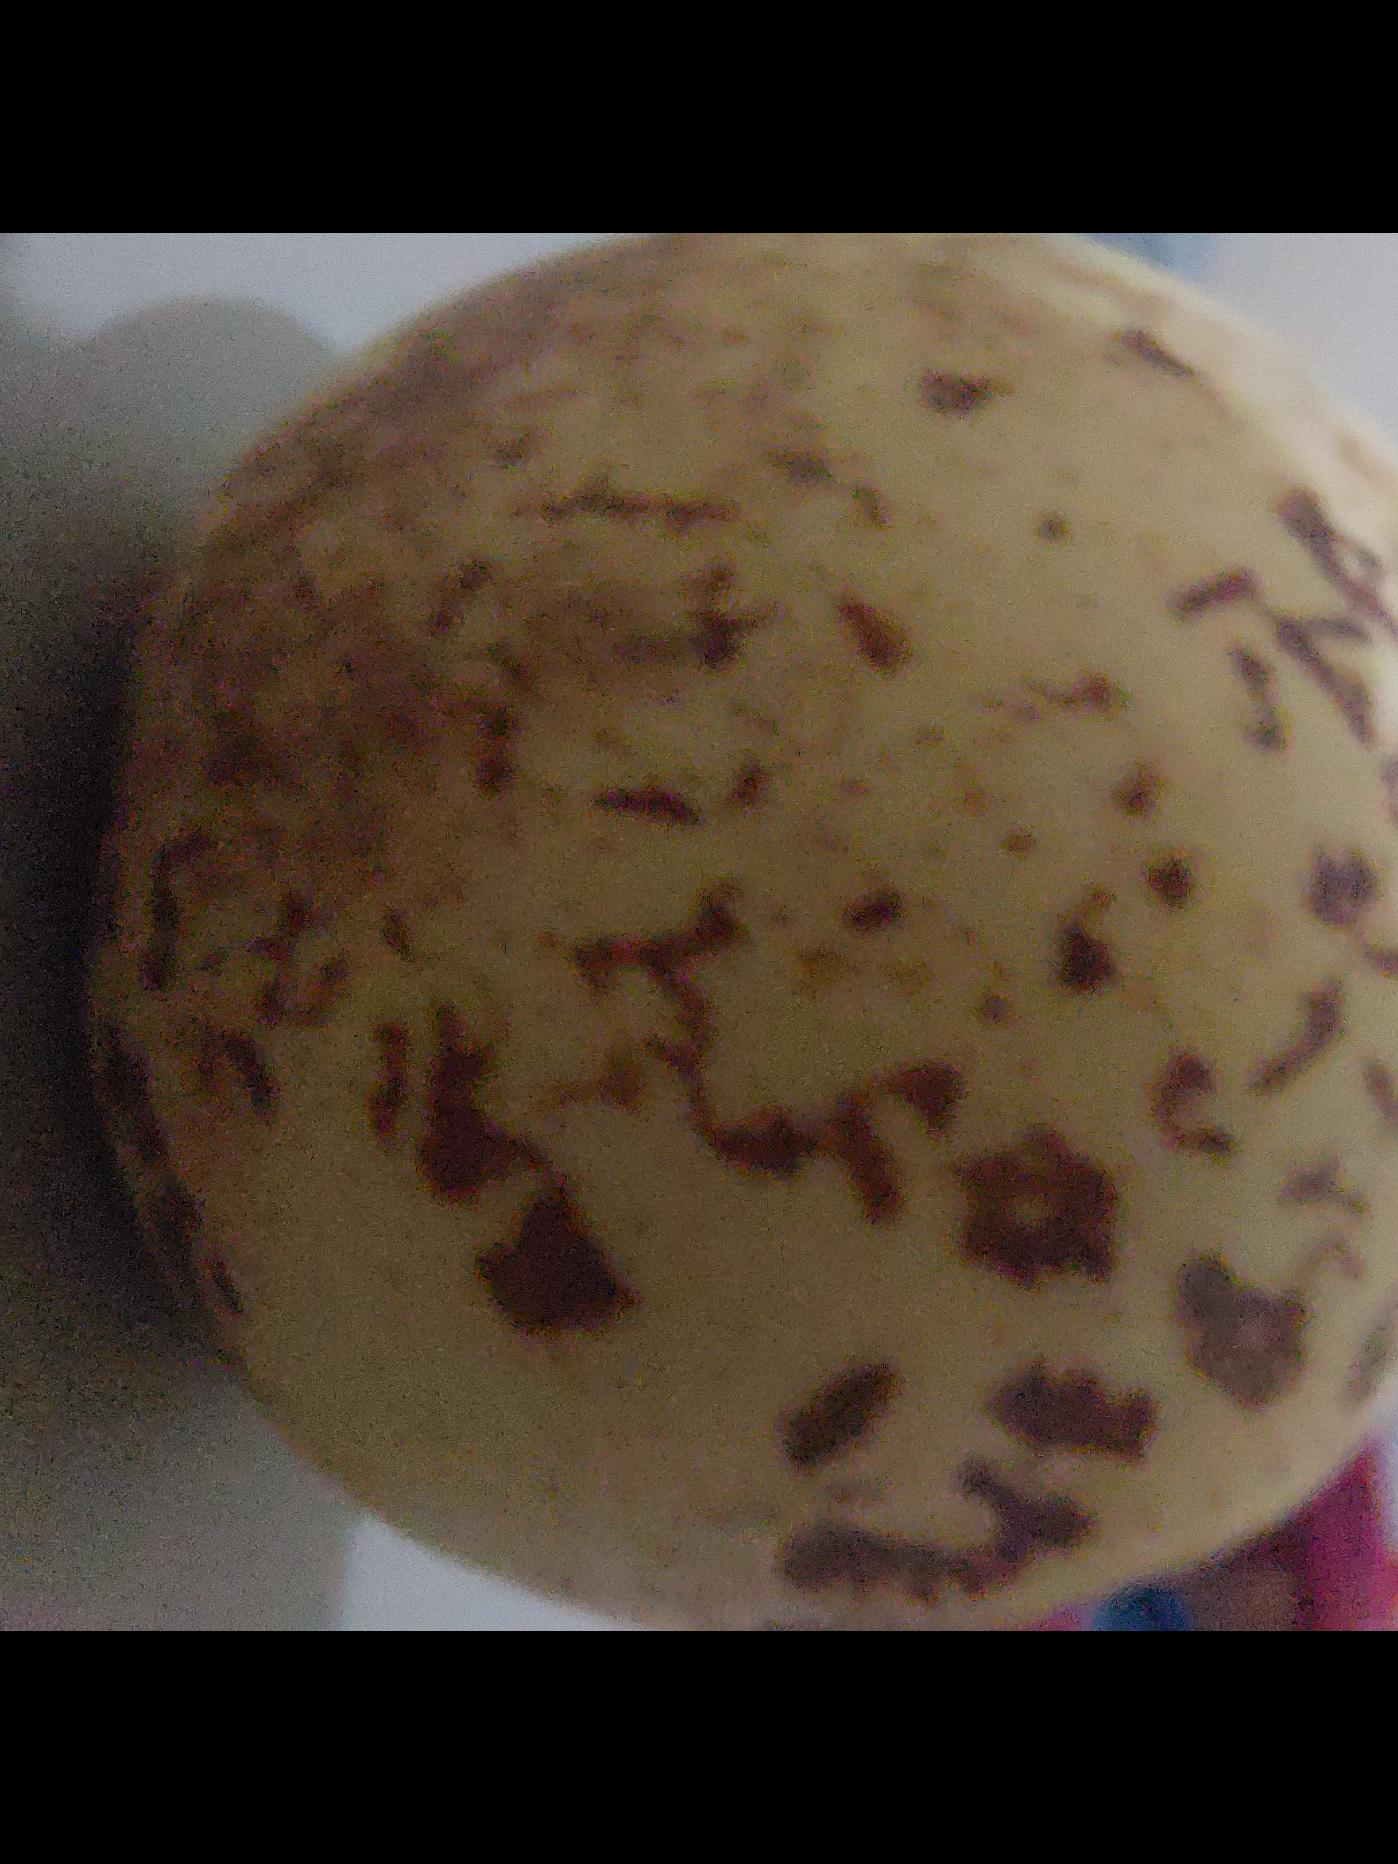Bad Pear: (70, 233, 1398, 1631)
